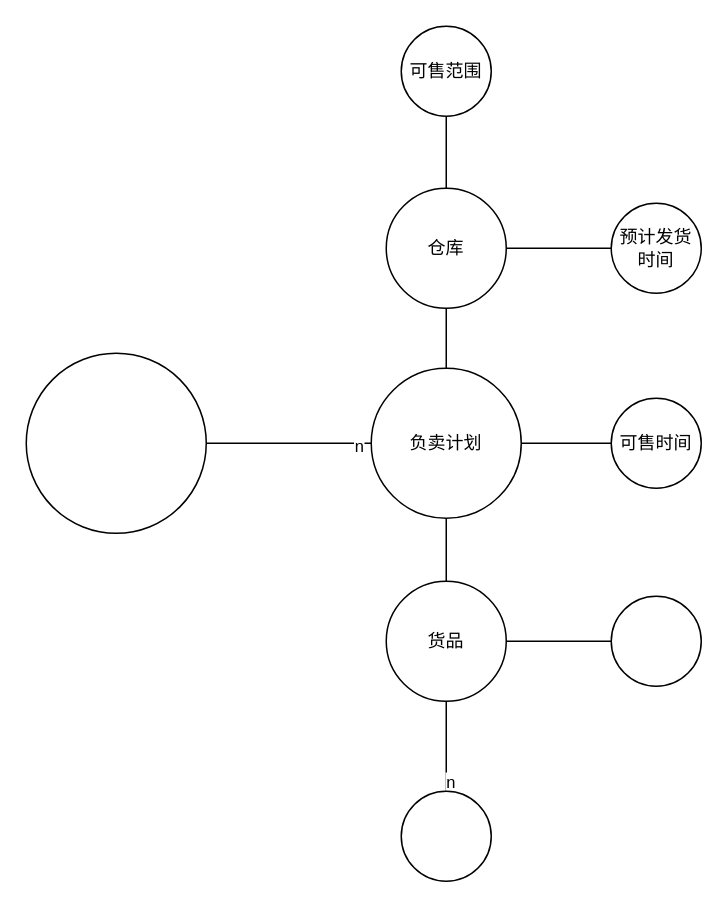
Image size: 728x908. Some labels were removed from this diagram. The shapes that lost their labels are listed below. From the top down, each one's centre as x and y in pixels, then its label:
(115,442): 直播负卖
(655,640): 可售数量
(445,835): 商品
